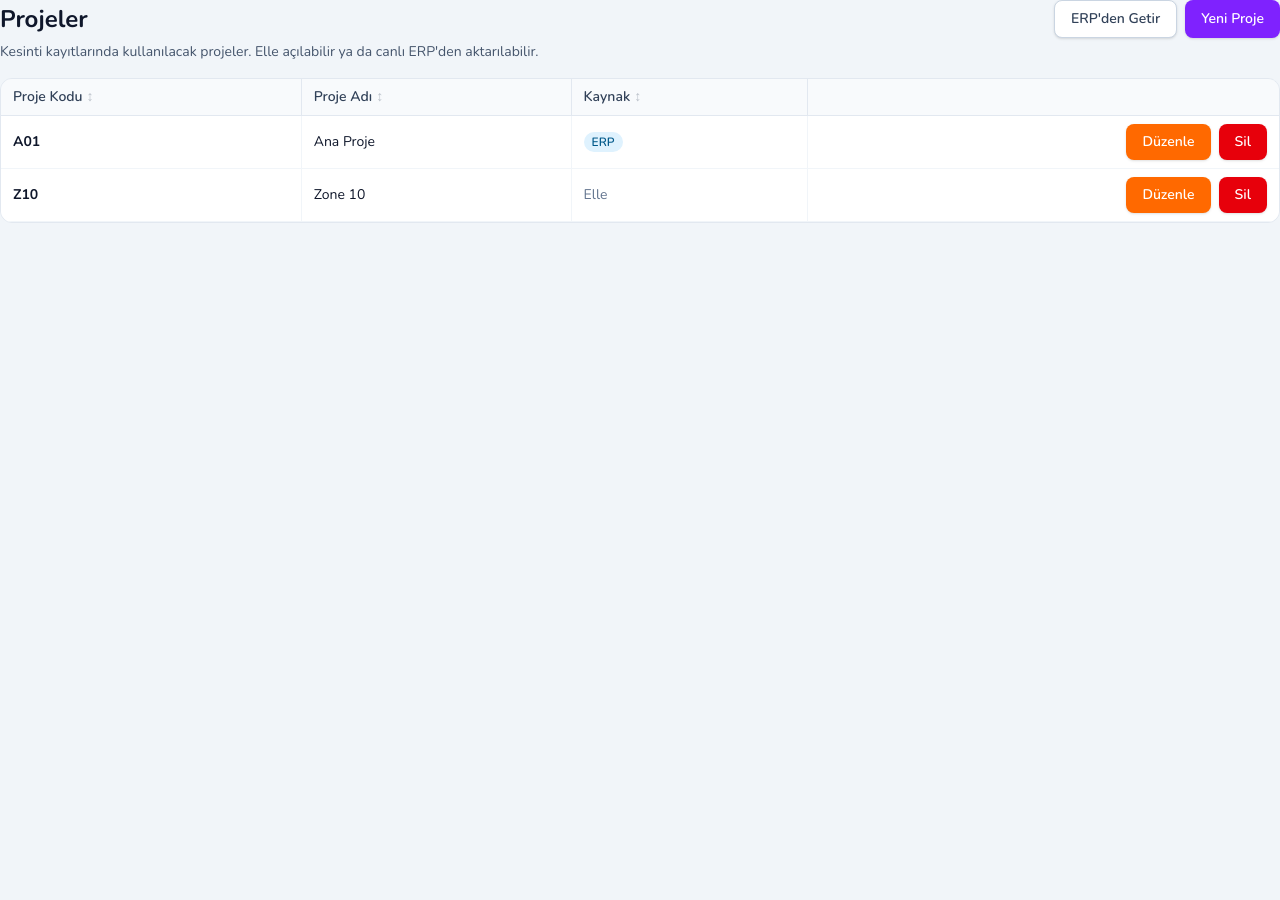
Scenario: ProjelerPage › ERP okunamazsa nedenini gösterir ve hiçbir şey aktarılmaz
Expected: the text "Zone 10" is shown, [301,168,571,222]
Click the button "ERP'den Getir".
click(1116, 19)  # box [1054,0,1177,38]
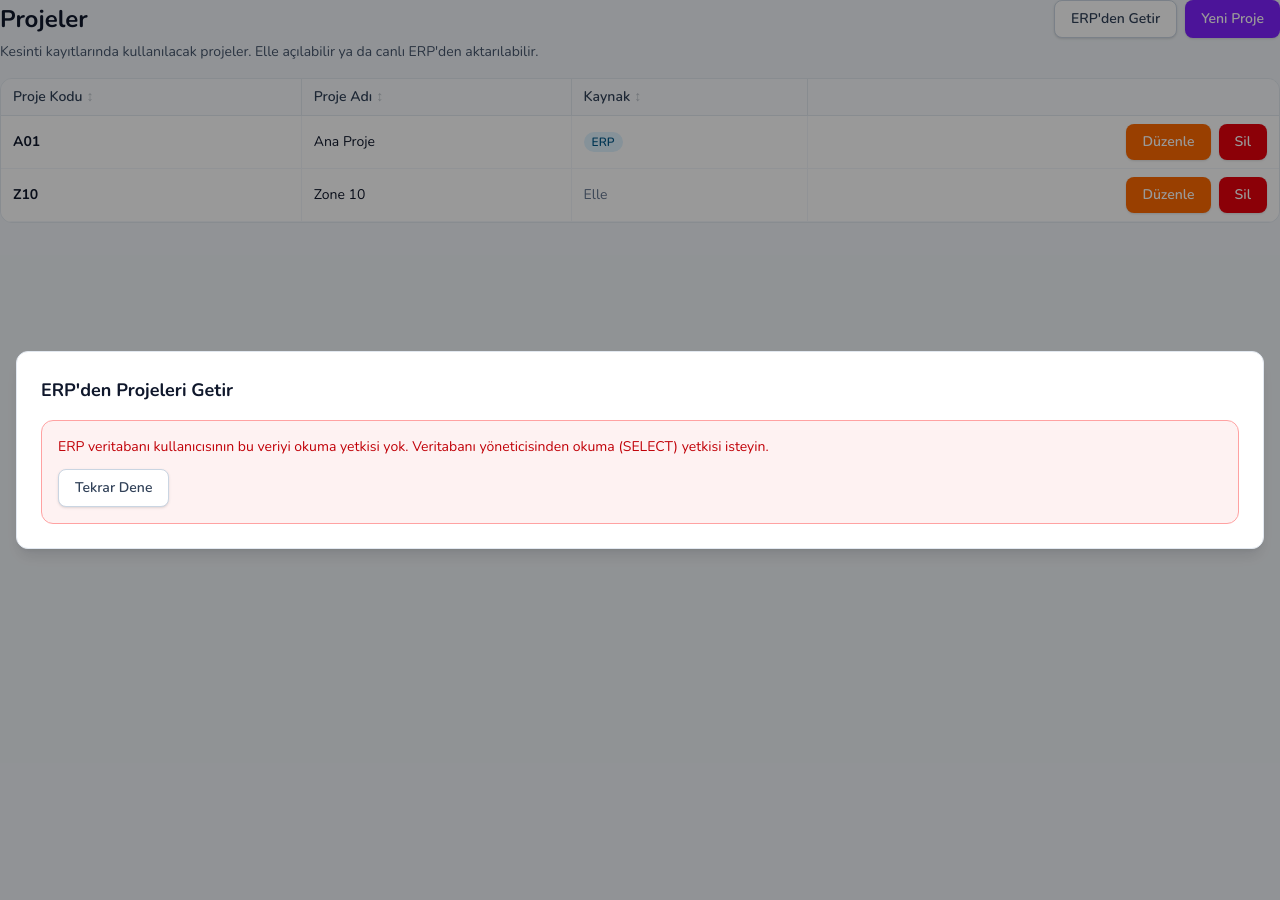
Expected: the text "ERP veritabanı kullanıcısının bu veriyi okuma yetkisi yok. Veritabanı yöneticisinden okuma (SELECT) yetkisi isteyin." is shown, [58,437,769,456]
